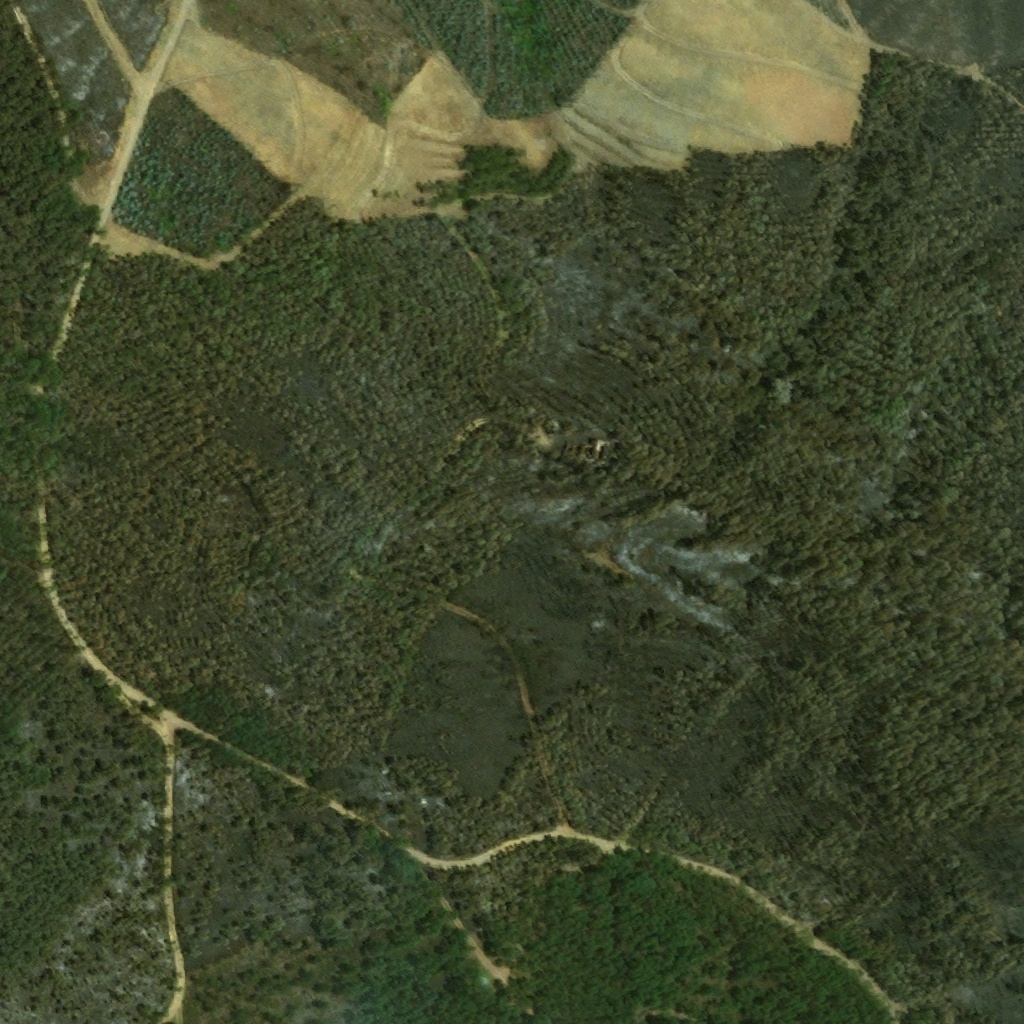3 destroyed: (579, 439, 614, 465)
